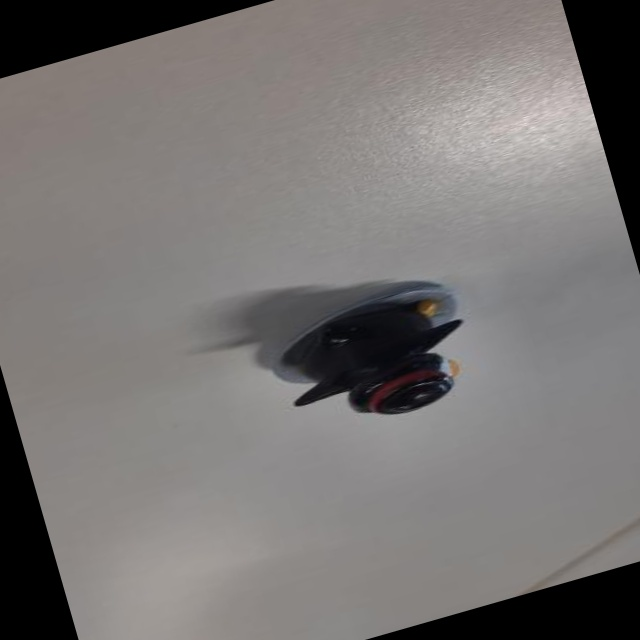Penguin: (261, 265, 484, 449)
